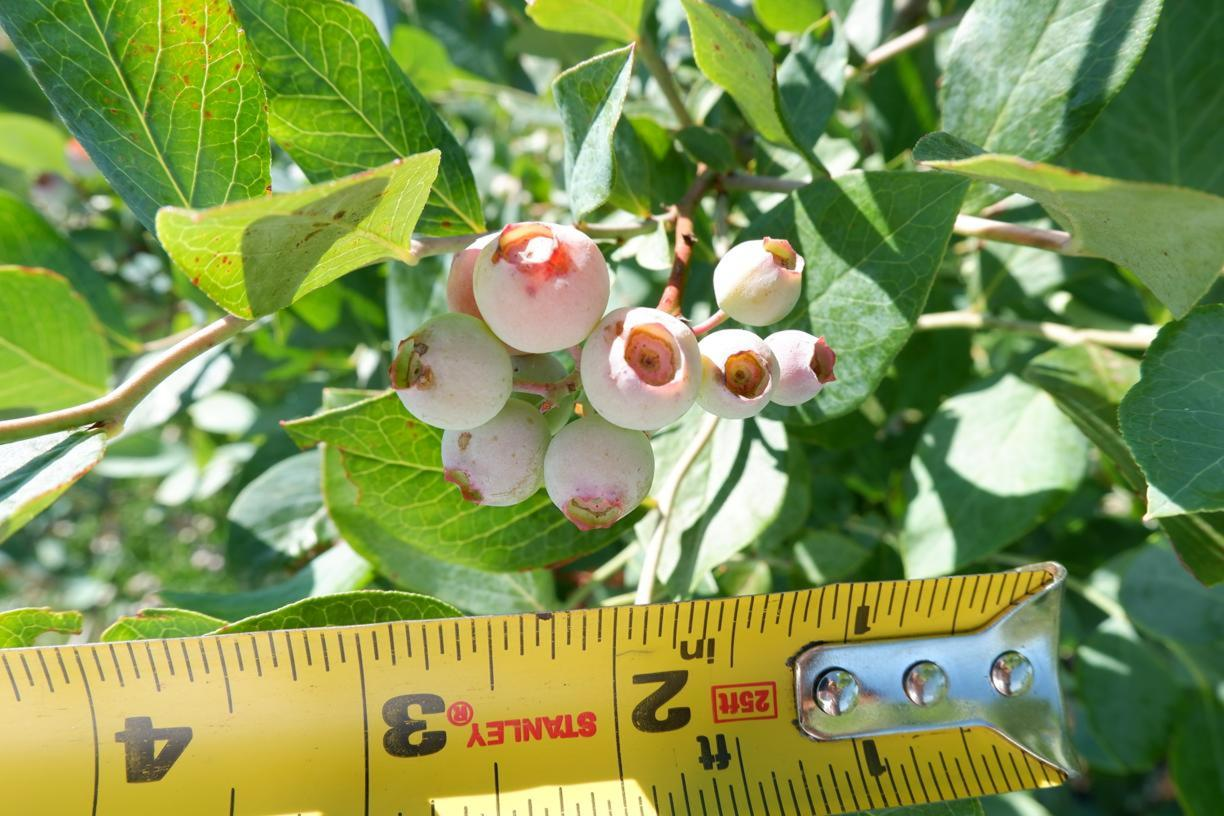Immature: (472, 222, 611, 354), (581, 307, 704, 431), (389, 314, 514, 432), (543, 414, 656, 530), (441, 398, 552, 506), (714, 238, 805, 325), (698, 329, 782, 419), (765, 329, 836, 406), (509, 355, 575, 436), (447, 231, 501, 326)
